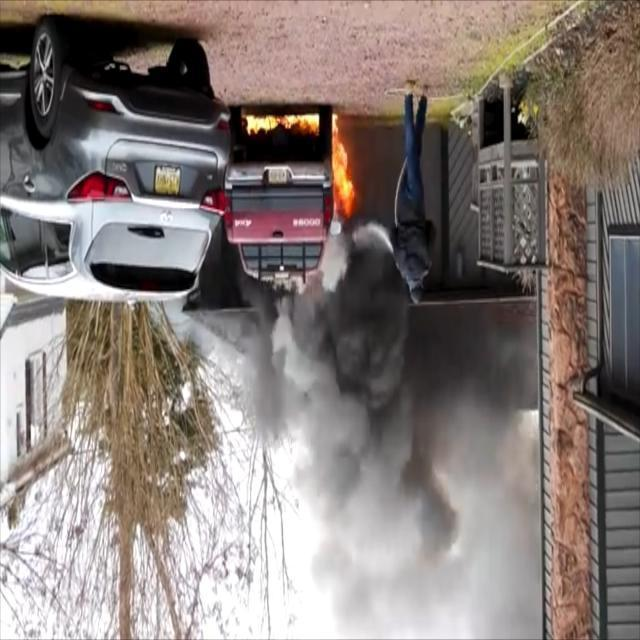fire: (308, 114, 358, 231), (225, 105, 309, 141)
